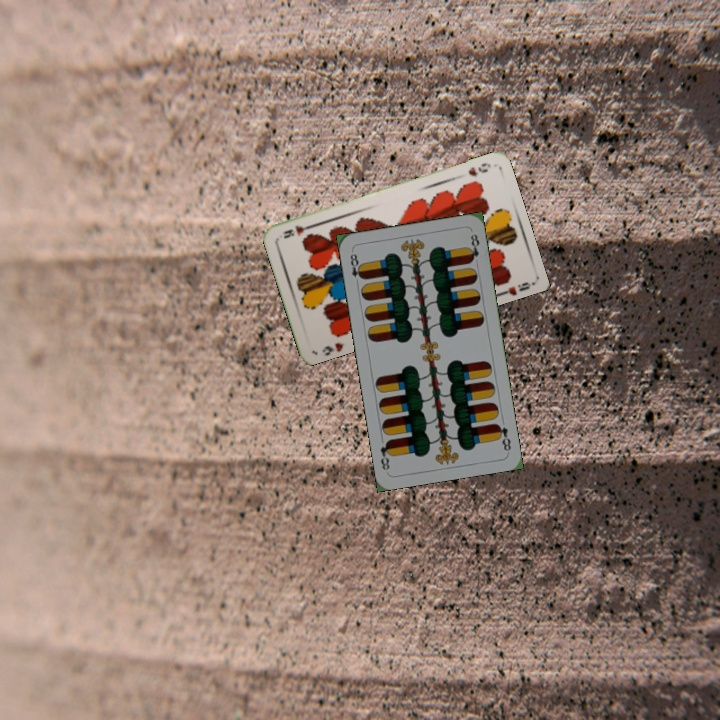E8: (346, 249, 366, 288), (492, 420, 513, 454)
H9: (464, 159, 493, 179), (318, 338, 346, 356)
